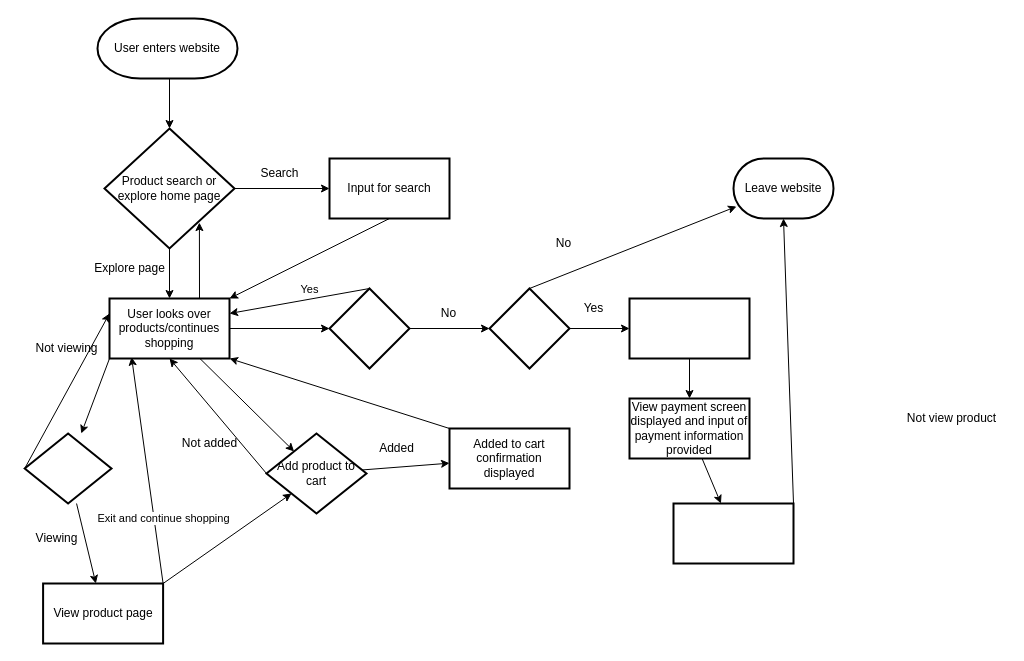
This 1024x661 diagram has some shape labels left out. Each missing label, with the centre of its shape:
Checkout: the point at 529,328
continue shopping: the point at 369,328
Order confirmation screen and email sent to user: the point at 733,533
View cart screen displayed: the point at 689,328
View product: the point at 67,468
